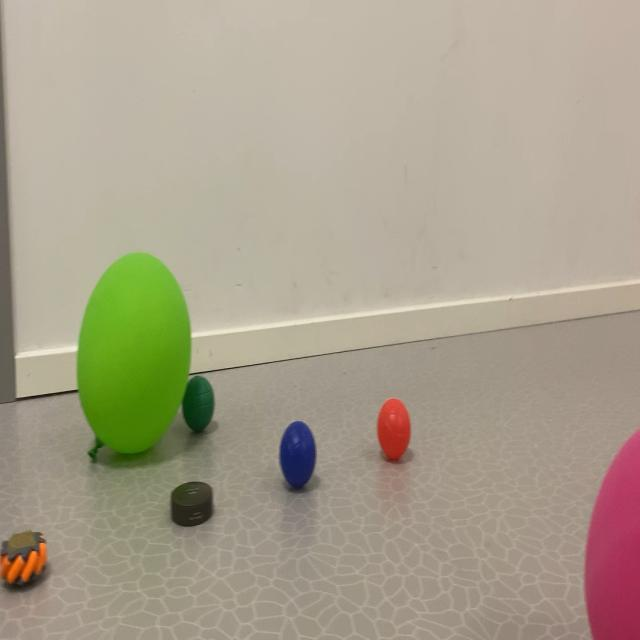7: (360, 353, 429, 518)
green ball: (262, 394, 338, 542)
red ball: (178, 334, 226, 462)
